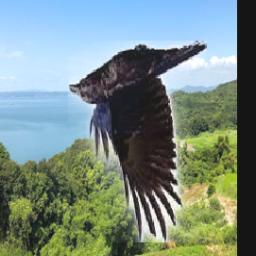Crow: (67, 41, 206, 242)
